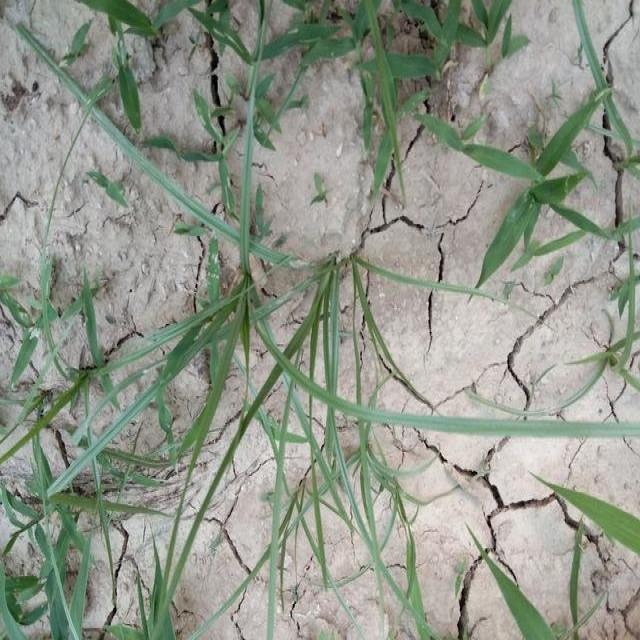weed: (32, 30, 376, 640), (0, 257, 125, 640), (428, 108, 538, 182)
